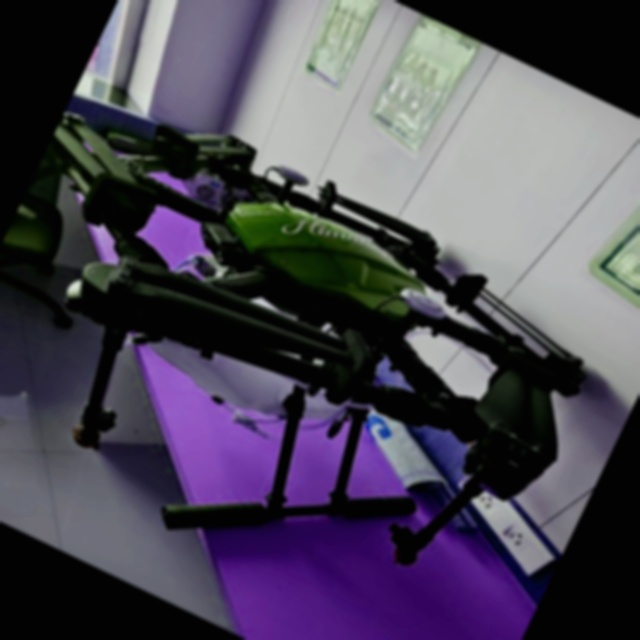agriculturedrone: (0, 60, 630, 640)
